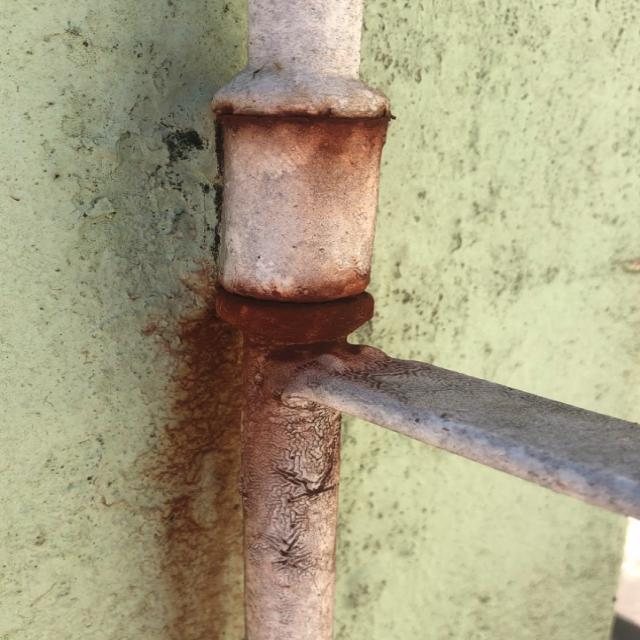Corrosion: (214, 271, 374, 335), (213, 101, 393, 138)
